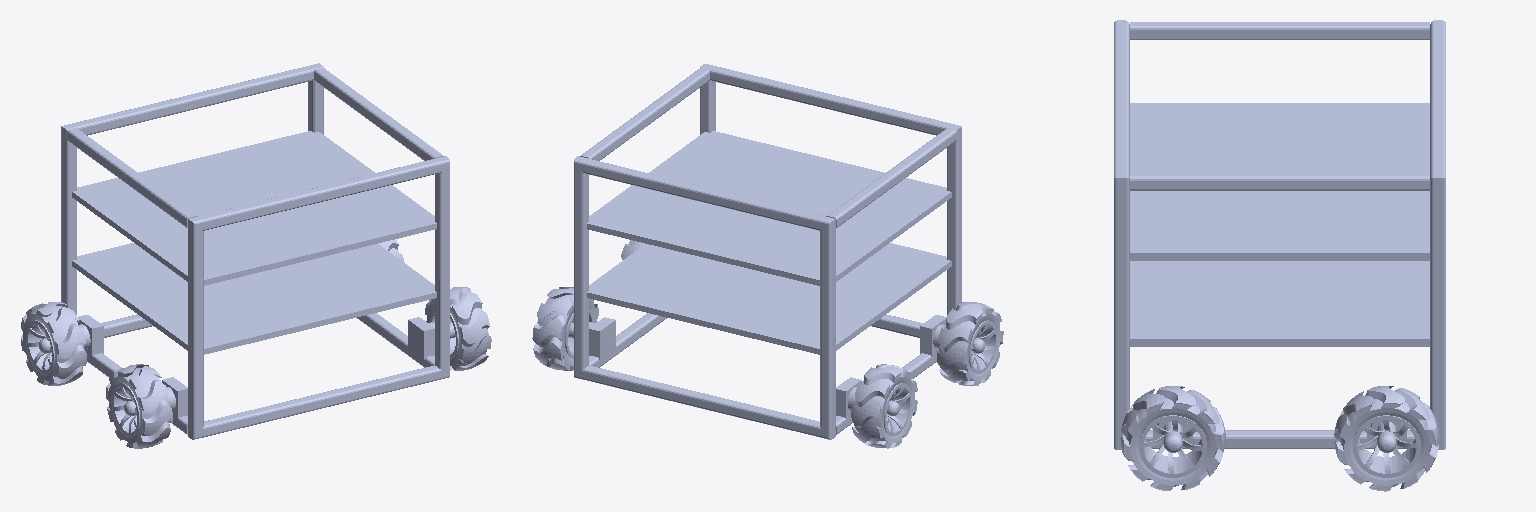
The robot description file, URDF, robot "Test_5":
<?xml version="1.0" ?>
<!-- =================================================================================== -->
<!-- |    This document was autogenerated by xacro from Test_5.urdf.xacro              | -->
<!-- |    EDITING THIS FILE BY HAND IS NOT RECOMMENDED                                 | -->
<!-- =================================================================================== -->
<!-- This URDF was automatically created by SolidWorks to URDF Exporter! Originally created by [author] ([email redacted]) 
     Commit Version: 1.6.0-1-g15f4949  Build Version: 1.6.7594.29634
     For more information, please see http://wiki.ros.org/sw_urdf_exporter -->
<robot name="Test_5">
  <link name="base_link">
    <inertial>
      <origin rpy="0 0 0" xyz="-8.6823E-07 0.18 0.00054346"/>
      <mass value="69.146"/>
      <inertia ixx="1.6165" ixy="3.8762E-18" ixz="-5.7828E-18" iyy="2.0245" iyz="-1.7094E-14" izz="1.9087"/>
    </inertial>
    <visual>
      <origin rpy="0 0 0" xyz="0 0 0"/>
      <geometry>
        <mesh filename="package://Test_5/meshes/base_link.STL"/>
      </geometry>
      <material name="">
        <color rgba="0.79216 0.81961 0.93333 1"/>
      </material>
    </visual>
    <collision>
      <origin rpy="0 0 0" xyz="0 0 0"/>
      <geometry>
        <mesh filename="package://Test_5/meshes/base_link.STL"/>
      </geometry>
    </collision>
  </link>
  <joint name="Joint_4" type="continuous">
    <origin rpy="0 0 0" xyz="0 0 0"/>
    <parent link="base_link"/>
    <child link="Link_4"/>
    <axis xyz="1 0 0"/>
    <limit effort="0.8" lower="0" upper="6.2832" velocity="20.94"/>
  </joint>
  <link name="Link_1">
    <inertial>
      <origin rpy="0 0 0" xyz="0.28132 0.315 -0.1475"/>
      <mass value="0.35363"/>
      <inertia ixx="0.00078766" ixy="1.2402E-09" ixz="5.4221E-11" iyy="0.00049432" iyz="-8.4351E-10" izz="0.0004943"/>
    </inertial>
    <visual>
      <origin rpy="0 0 0" xyz="0 0 0"/>
      <geometry>
        <mesh filename="package://Test_5/meshes/Link_1.STL"/>
      </geometry>
      <material name="">
        <color rgba="0.79216 0.81961 0.93333 1"/>
      </material>
    </visual>
    <collision>
      <origin rpy="0 0 0" xyz="0 0 0"/>
      <geometry>
        <mesh filename="package://Test_5/meshes/Link_1.STL"/>
      </geometry>
    </collision>
  </link>
  <joint name="Joint_1" type="continuous">
    <origin rpy="0 0 0" xyz="0 0 0"/>
    <parent link="base_link"/>
    <child link="Link_1"/>
    <axis xyz="-1 0 0"/>
    <limit effort="0.8" lower="0" upper="0" velocity="20.94"/>
  </joint>
  <link name="Link_2">
    <inertial>
      <origin rpy="0 0 0" xyz="0.28132 0.045 -0.1475"/>
      <mass value="0.35363"/>
      <inertia ixx="0.00078764" ixy="-1.7785E-09" ixz="-1.1216E-09" iyy="0.00049431" iyz="-3.5557E-09" izz="0.0004943"/>
    </inertial>
    <visual>
      <origin rpy="0 0 0" xyz="0 0 0"/>
      <geometry>
        <mesh filename="package://Test_5/meshes/Link_2.STL"/>
      </geometry>
      <material name="">
        <color rgba="0.79216 0.81961 0.93333 1"/>
      </material>
    </visual>
    <collision>
      <origin rpy="0 0 0" xyz="0 0 0"/>
      <geometry>
        <mesh filename="package://Test_5/meshes/Link_2.STL"/>
      </geometry>
    </collision>
  </link>
  <joint name="Joint_2" type="continuous">
    <origin rpy="0 0 0" xyz="0 0 0"/>
    <parent link="base_link"/>
    <child link="Link_2"/>
    <axis xyz="-1 0 0"/>
    <limit effort="0.8" lower="0" upper="0" velocity="20.94"/>
  </joint>
  <link name="Link_3">
    <inertial>
      <origin rpy="0 0 0" xyz="-0.28132 0.315 -0.1475"/>
      <mass value="0.35364"/>
      <inertia ixx="0.00078765" ixy="-2.1417E-09" ixz="3.3758E-10" iyy="0.00049431" iyz="4.9819E-09" izz="0.0004943"/>
    </inertial>
    <visual>
      <origin rpy="0 0 0" xyz="0 0 0"/>
      <geometry>
        <mesh filename="package://Test_5/meshes/Link_3.STL"/>
      </geometry>
      <material name="">
        <color rgba="0.79216 0.81961 0.93333 1"/>
      </material>
    </visual>
    <collision>
      <origin rpy="0 0 0" xyz="0 0 0"/>
      <geometry>
        <mesh filename="package://Test_5/meshes/Link_3.STL"/>
      </geometry>
    </collision>
  </link>
  <joint name="Joint_3" type="continuous">
    <origin rpy="0 0 0" xyz="0 0 0"/>
    <parent link="base_link"/>
    <child link="Link_3"/>
    <axis xyz="1 0 0"/>
    <limit effort="0.8" lower="0" upper="0" velocity="20.94"/>
  </joint>
  <link name="Link_4">
    <inertial>
      <origin rpy="0 0 0" xyz="-0.28132 0.044999 -0.1475"/>
      <mass value="0.35364"/>
      <inertia ixx="0.00078765" ixy="-1.0791E-09" ixz="1.8114E-09" iyy="0.00049431" iyz="-3.4246E-09" izz="0.0004943"/>
    </inertial>
    <visual>
      <origin rpy="0 0 0" xyz="0 0 0"/>
      <geometry>
        <mesh filename="package://Test_5/meshes/Link_4.STL"/>
      </geometry>
      <material name="">
        <color rgba="0.79216 0.81961 0.93333 1"/>
      </material>
    </visual>
    <collision>
      <origin rpy="0 0 0" xyz="0 0 0"/>
      <geometry>
        <mesh filename="package://Test_5/meshes/Link_4.STL"/>
      </geometry>
    </collision>
  </link>
  <!-- <joint name="Joint_4" type="continuous">
    <origin rpy="0 0 0" xyz="0 0 0"/>
    <parent link="base_link"/>
    <child link="Link_4"/>
    <axis xyz="1 0 0"/>
    <limit effort="0.8" lower="0" upper="0" velocity="20.94"/>
  </joint> -->
  <ros2_control name="RealRobot" type="system">
    <hardware>
      <plugin>diffdrive_arduino/DiffDriveArduinoHardware</plugin>
    </hardware>
    <joint name="Joint_1">
      <command_interface name="velocity"/>
      <state_interface name="position"/>
      <state_interface name="velocity"/>
    </joint>
    <joint name="Joint_2">
      <command_interface name="velocity"/>
      <state_interface name="position"/>
      <state_interface name="velocity"/>
    </joint>
    <joint name="Joint_3">
      <command_interface name="velocity"/>
      <state_interface name="position"/>
      <state_interface name="velocity"/>
    </joint>
    <joint name="Joint_4">
      <command_interface name="velocity"/>
      <state_interface name="position"/>
      <state_interface name="velocity"/>
    </joint>
  </ros2_control>
</robot>

--- Facts derived from the render (not from the file) ---
Views: 3 orthographic renders of the robot side by side, from view 1: azimuth 30°, elevation 25°; view 2: azimuth 150°, elevation 25°; view 3: azimuth 270°, elevation 25°.
Model Test_5 with 5 links and 4 joints (4 continuous), rooted at base_link, posed every joint at zero.
Visible links, largest first — view 1: base_link, Link_3, Link_4, Link_2; view 2: base_link, Link_4, Link_3, Link_1; view 3: base_link, Link_2, Link_1.
Link boxes in pixels (bbox=[...]): base_link: bbox=[61, 63, 449, 439]; Link_3: bbox=[21, 302, 90, 385]; Link_4: bbox=[106, 364, 175, 448]; Link_2: bbox=[425, 287, 491, 370]; base_link: bbox=[574, 64, 961, 439]; Link_4: bbox=[933, 302, 1003, 385]; Link_3: bbox=[848, 364, 917, 448]; Link_1: bbox=[532, 287, 598, 370]; base_link: bbox=[1114, 20, 1445, 449]; Link_2: bbox=[1120, 386, 1225, 490]; Link_1: bbox=[1334, 386, 1438, 491].
Size in the robot's own frame: 0.6316 by 0.42 by 0.404 metres.
Meshes: 5 distinct files referenced, 5 mesh visuals loaded (5 binary STL).
